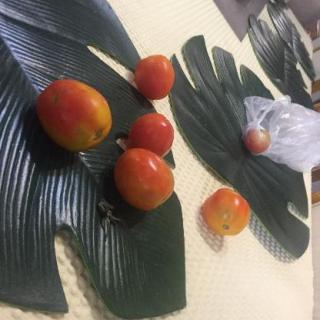Tomat: (27, 69, 118, 153), (113, 142, 181, 213), (195, 178, 252, 241), (124, 50, 181, 103), (125, 112, 183, 158), (243, 120, 278, 160)
